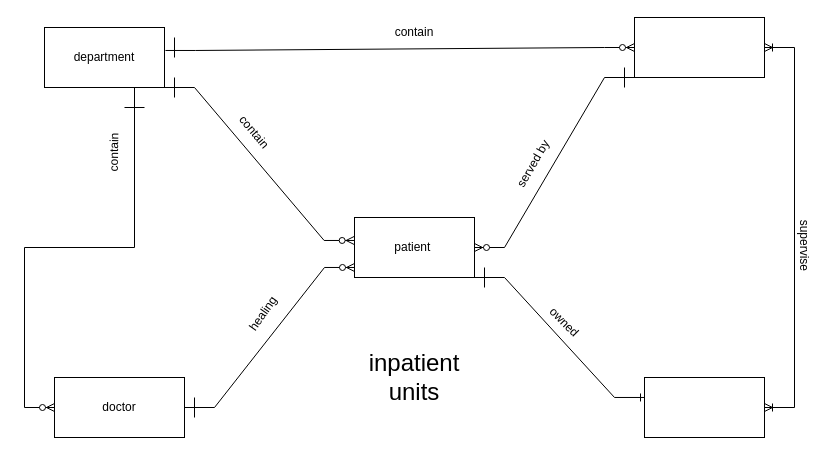
This 837x455 diagram has some shape labels left out. Each missing label, with the centre of its shape:
"medical service record" belongs at (704,407).
"nurse" belongs at (699,47).
